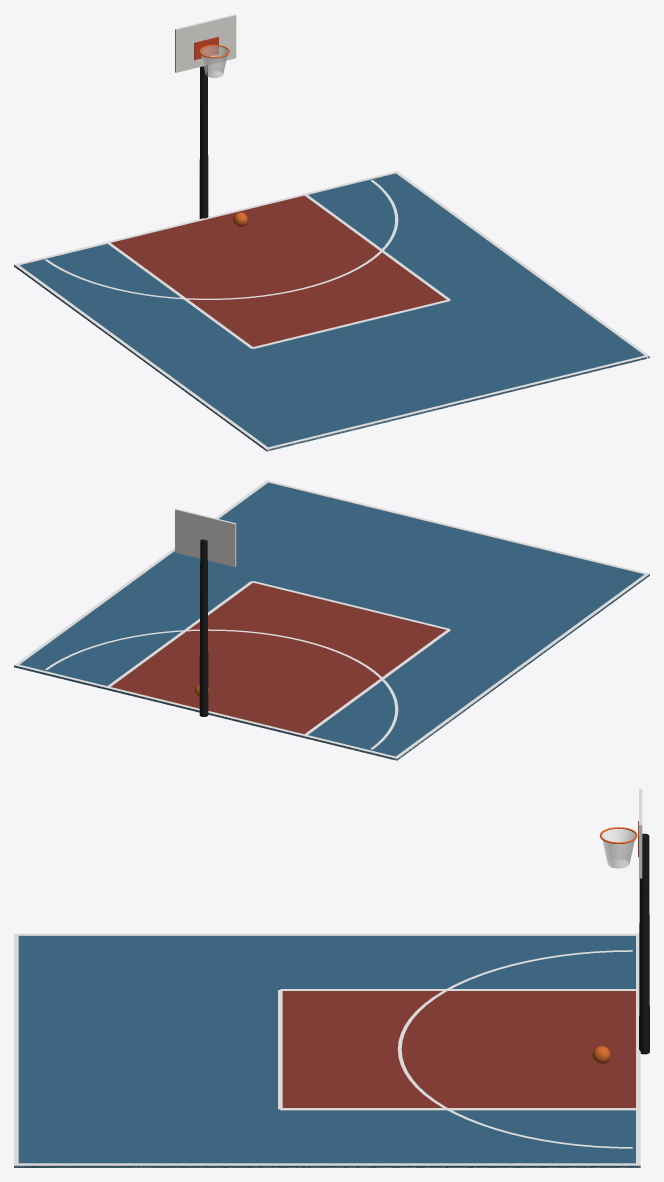
File: court.glb
3 renders of one model, top to bottom at view 1: azimuth 30°, elevation 25°; view 2: azimuth 150°, elevation 25°; view 3: azimuth 270°, elevation 25°, orthographic. The views are drawn at different scales.
Parts seen in each view (by area): view 1: court; view 2: court; view 3: court.
Boxes of the visible parts, x1=… form: court: x1=14, y1=14, x2=649, y2=451; court: x1=14, y1=480, x2=649, y2=760; court: x1=14, y1=789, x2=649, y2=1167.
Bounding box in the file's own units: 7 × 3.45 × 8.12.
